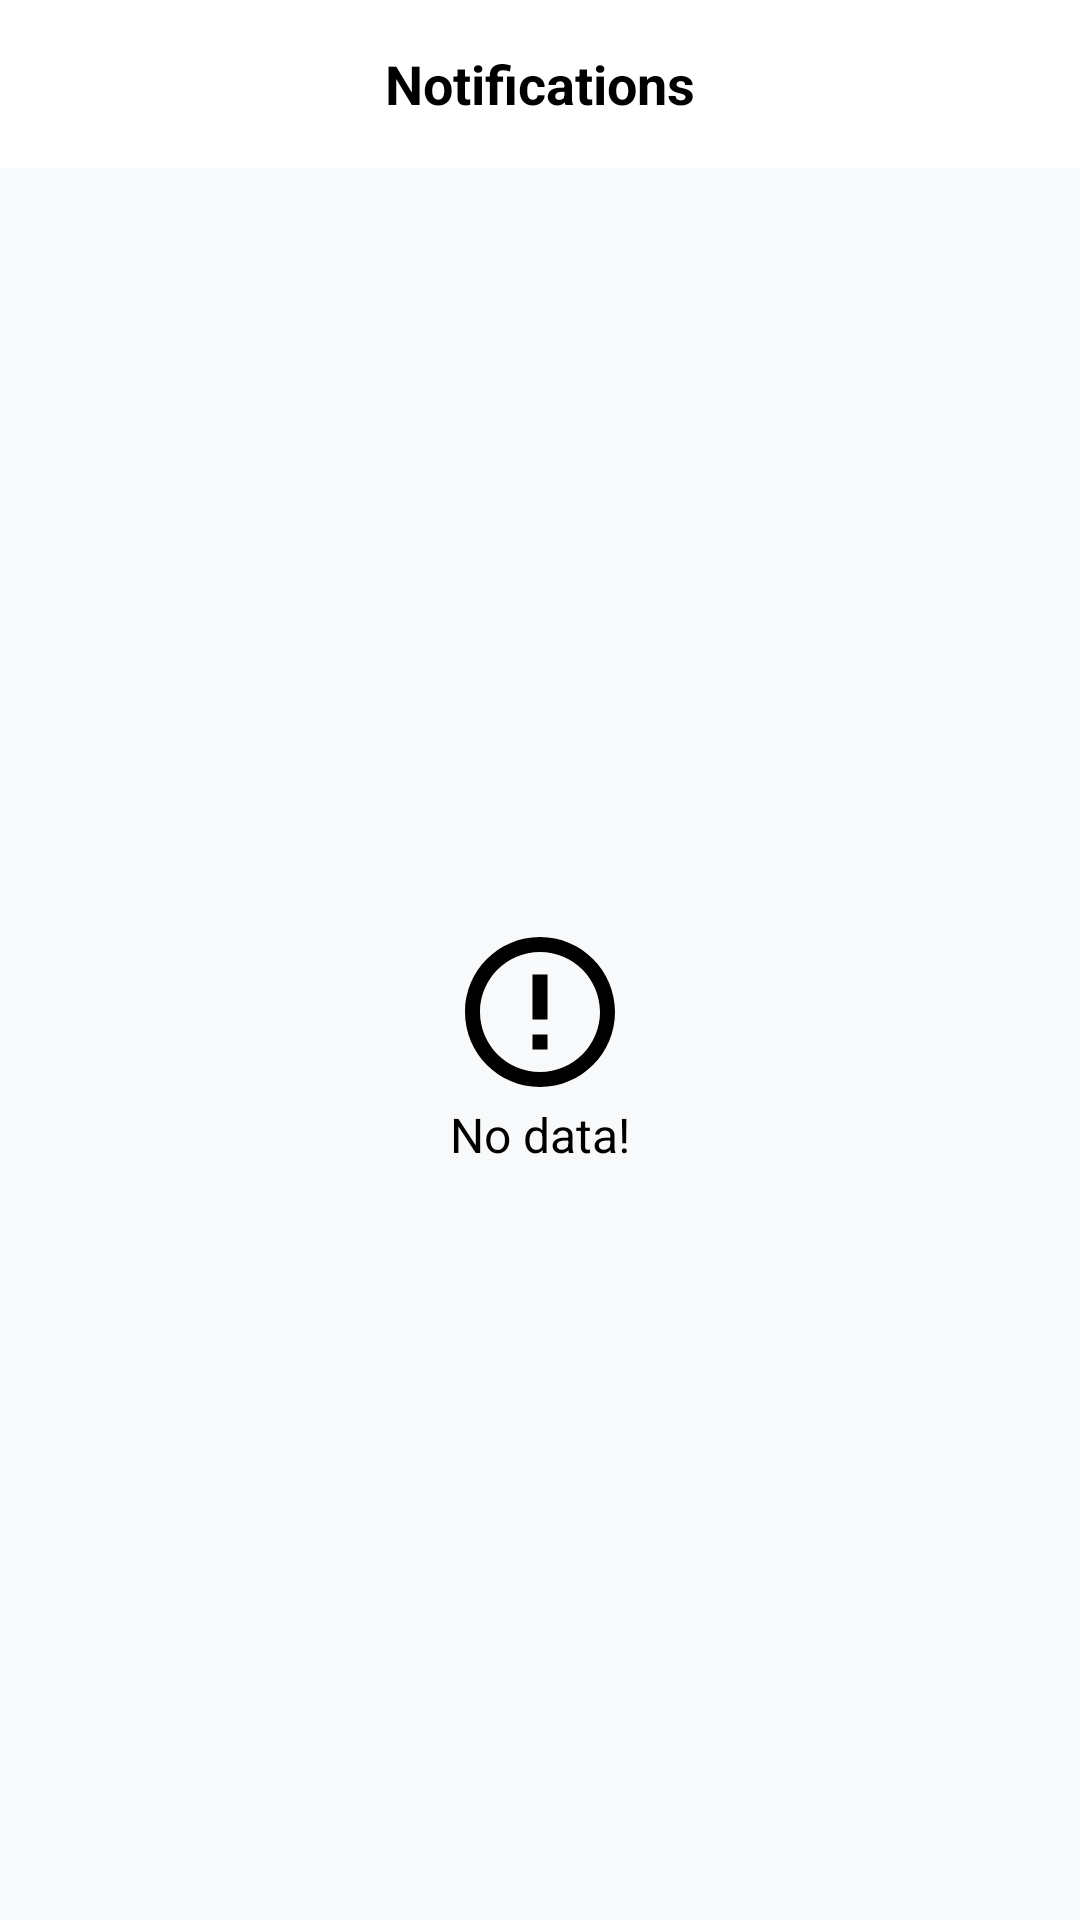

Icon click points for this 1080 × 1920 phone screenshot, format (x,y):
error: (540,1012)
